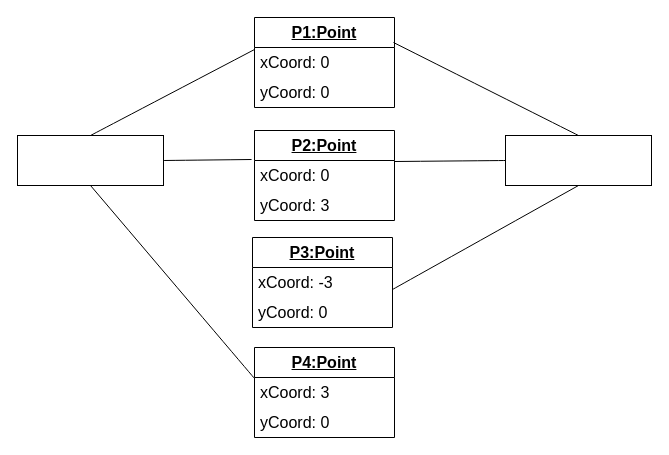
Image size: 669x455. Some labels were removed from this diagram. Each missing label, with the centre of its shape:
"Triangle 1:Polygon" goes at (90,160).
"Triangle 2:Polygon" goes at (578,160).
